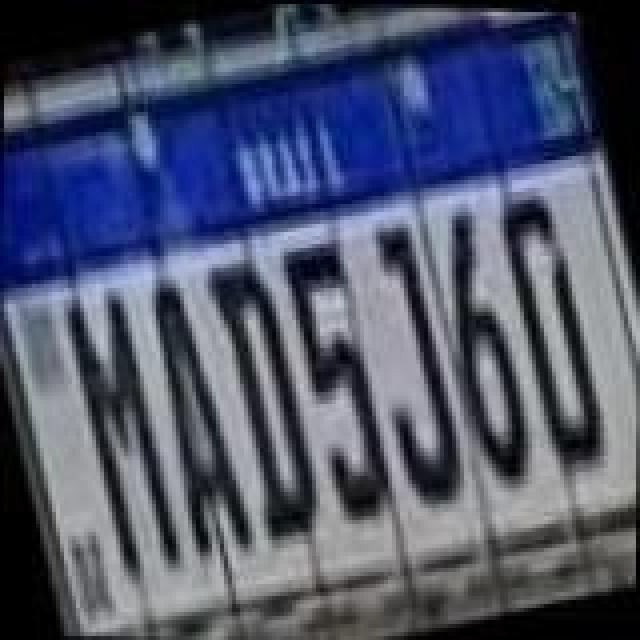5: (278, 236, 410, 524)
6: (416, 196, 544, 492)
A: (128, 272, 260, 560)
D: (202, 256, 338, 552), (486, 186, 618, 474)
J: (348, 216, 484, 516)
M: (54, 280, 190, 580)
